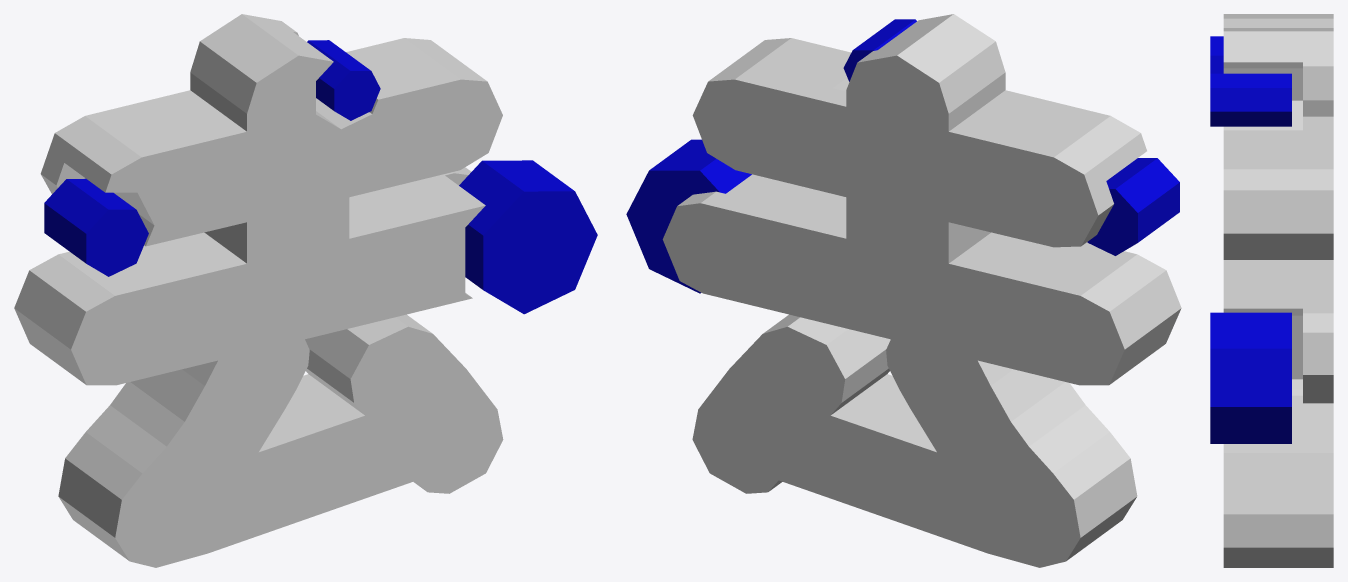
The model's file is Ch_Lite_China_去_01.fbx.
3 renders of one model, left to right at view 1: azimuth 30°, elevation 25°; view 2: azimuth 150°, elevation 25°; view 3: azimuth 270°, elevation 25°, orthographic. The views are drawn at different scales.
Visible parts, largest first — view 1: sphere1; view 2: sphere1; view 3: sphere1.
Boxes of the visible parts, box(x1,y1,x2,y2) form: sphere1: box(14, 14, 597, 567); sphere1: box(626, 14, 1181, 567); sphere1: box(1210, 14, 1333, 567).
Bounding box in the file's own units: 1.06 × 0.9277 × 0.2242.
